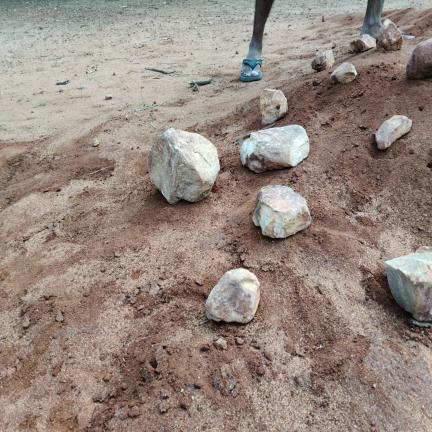Rocks: (148, 129, 219, 204), (385, 247, 431, 321), (241, 125, 309, 172), (253, 186, 311, 237), (206, 269, 259, 323), (376, 116, 412, 149), (407, 39, 431, 79), (261, 89, 287, 124), (376, 19, 402, 50), (330, 63, 356, 83), (312, 50, 334, 71), (350, 35, 376, 52), (128, 405, 140, 418), (221, 364, 232, 377), (214, 338, 227, 349), (214, 378, 224, 390), (22, 315, 30, 329), (55, 310, 64, 322), (160, 401, 169, 412), (160, 389, 169, 398), (93, 394, 103, 402), (201, 343, 210, 351), (235, 337, 244, 345), (93, 138, 99, 146), (105, 94, 112, 99)
